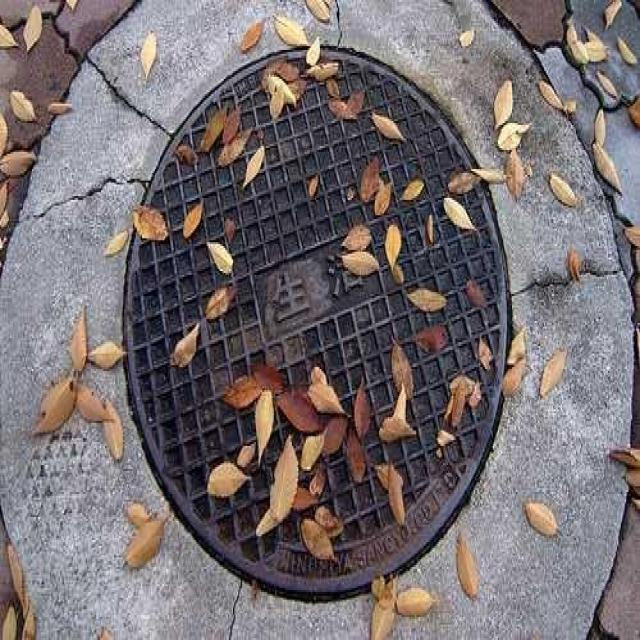manhole: (124, 49, 510, 598)
